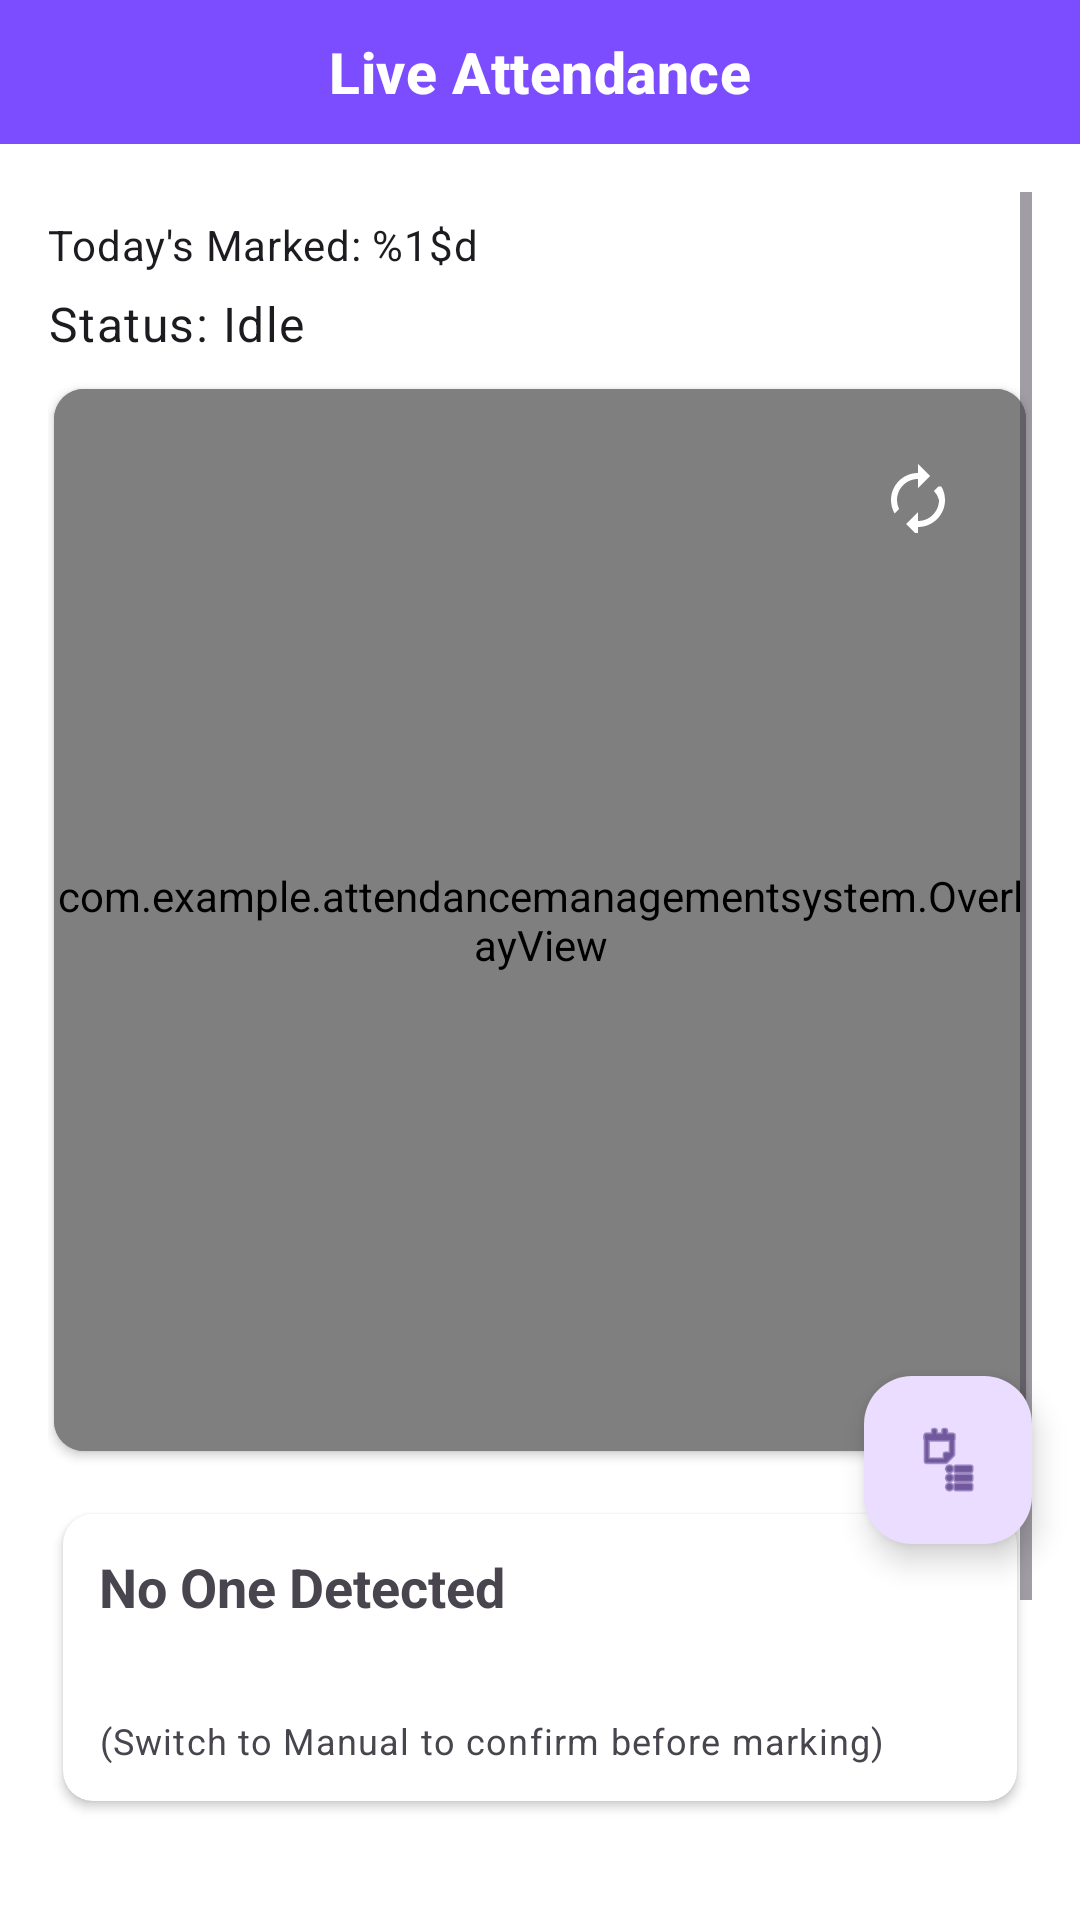

Locate icon controls on the screen. Image size 1080 × 1920, boxes as (x1, y1, x2, y2).
Switch Camera: (891, 464, 945, 533)
